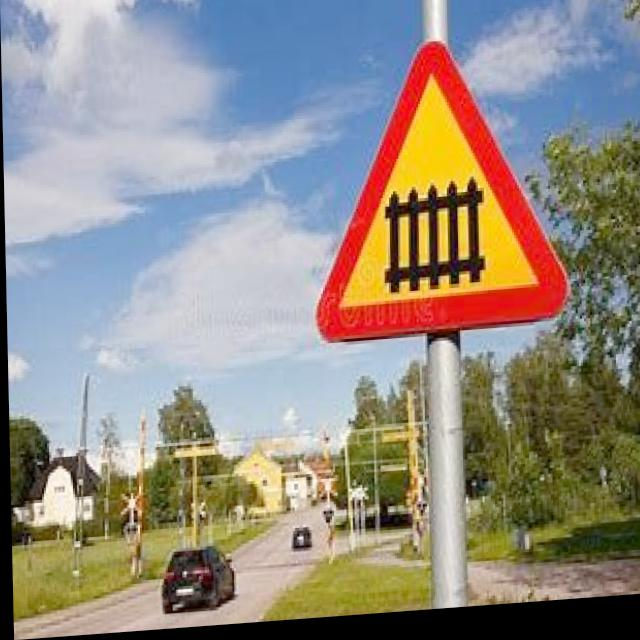GUARDED_LEVEL_CROSSING: (304, 29, 563, 350)
